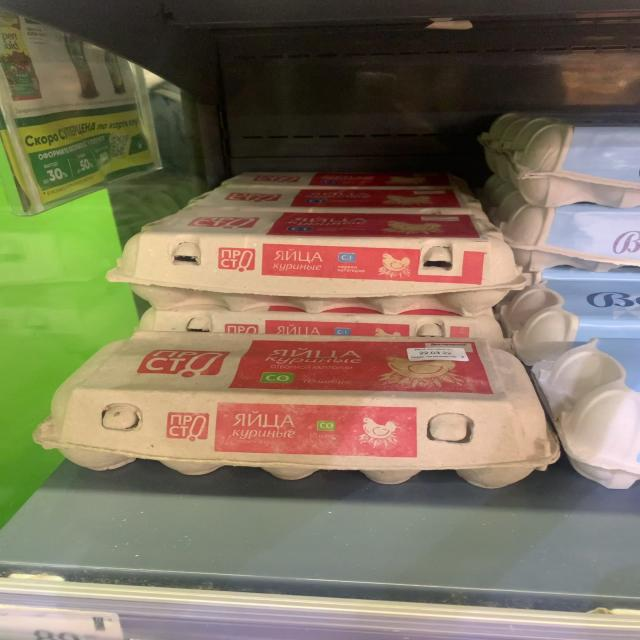egg box: (42, 333, 560, 490), (111, 207, 529, 314)
